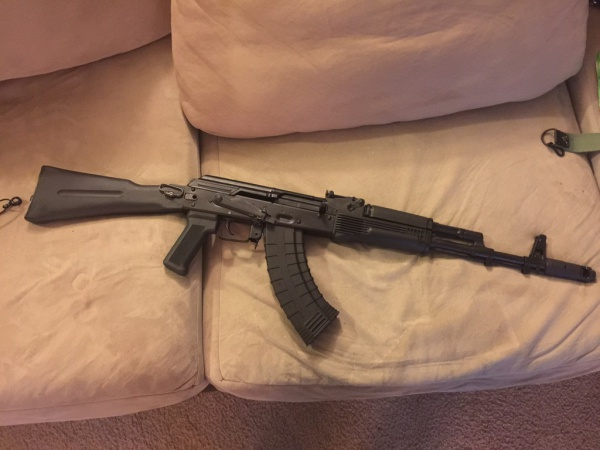ak47: (36, 160, 598, 343)
